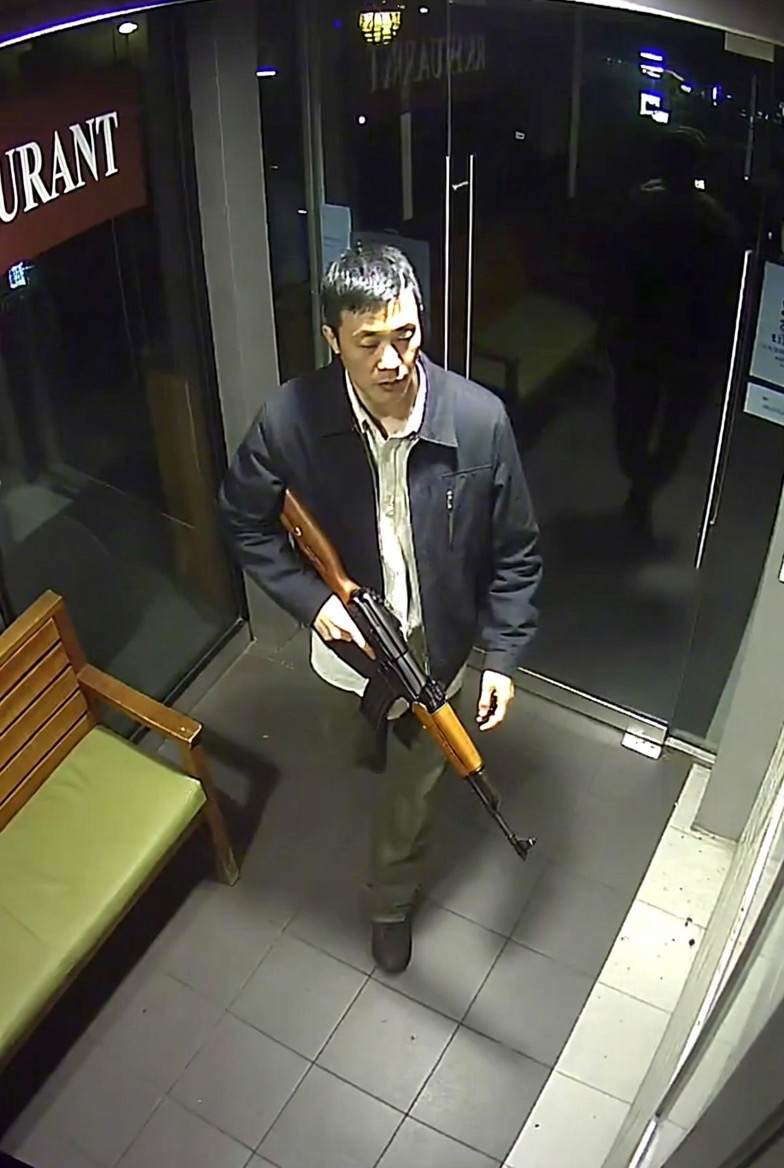person: (216, 241, 545, 976)
weapon: (280, 487, 538, 864)
